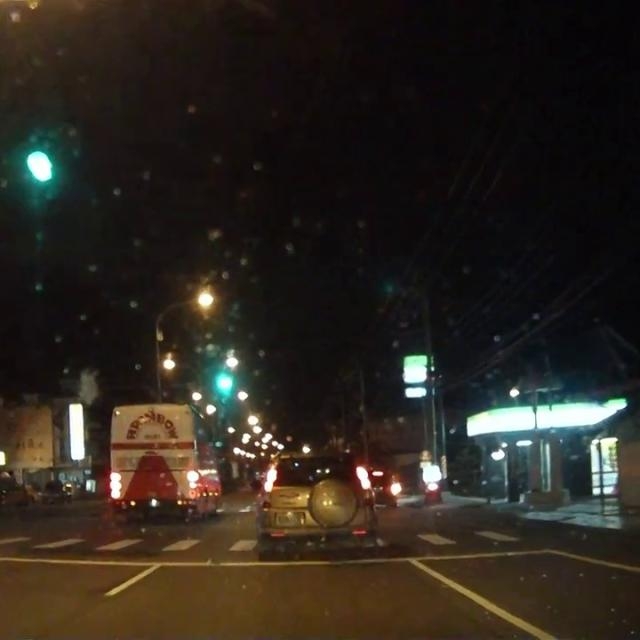Car: (254, 448, 375, 552), (365, 467, 399, 508), (0, 473, 29, 515), (39, 477, 76, 499)
